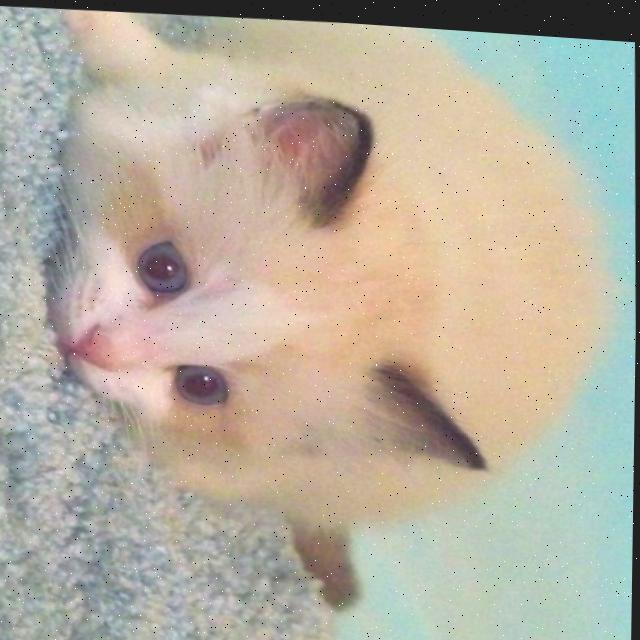Ragdoll: (29, 2, 630, 617)
